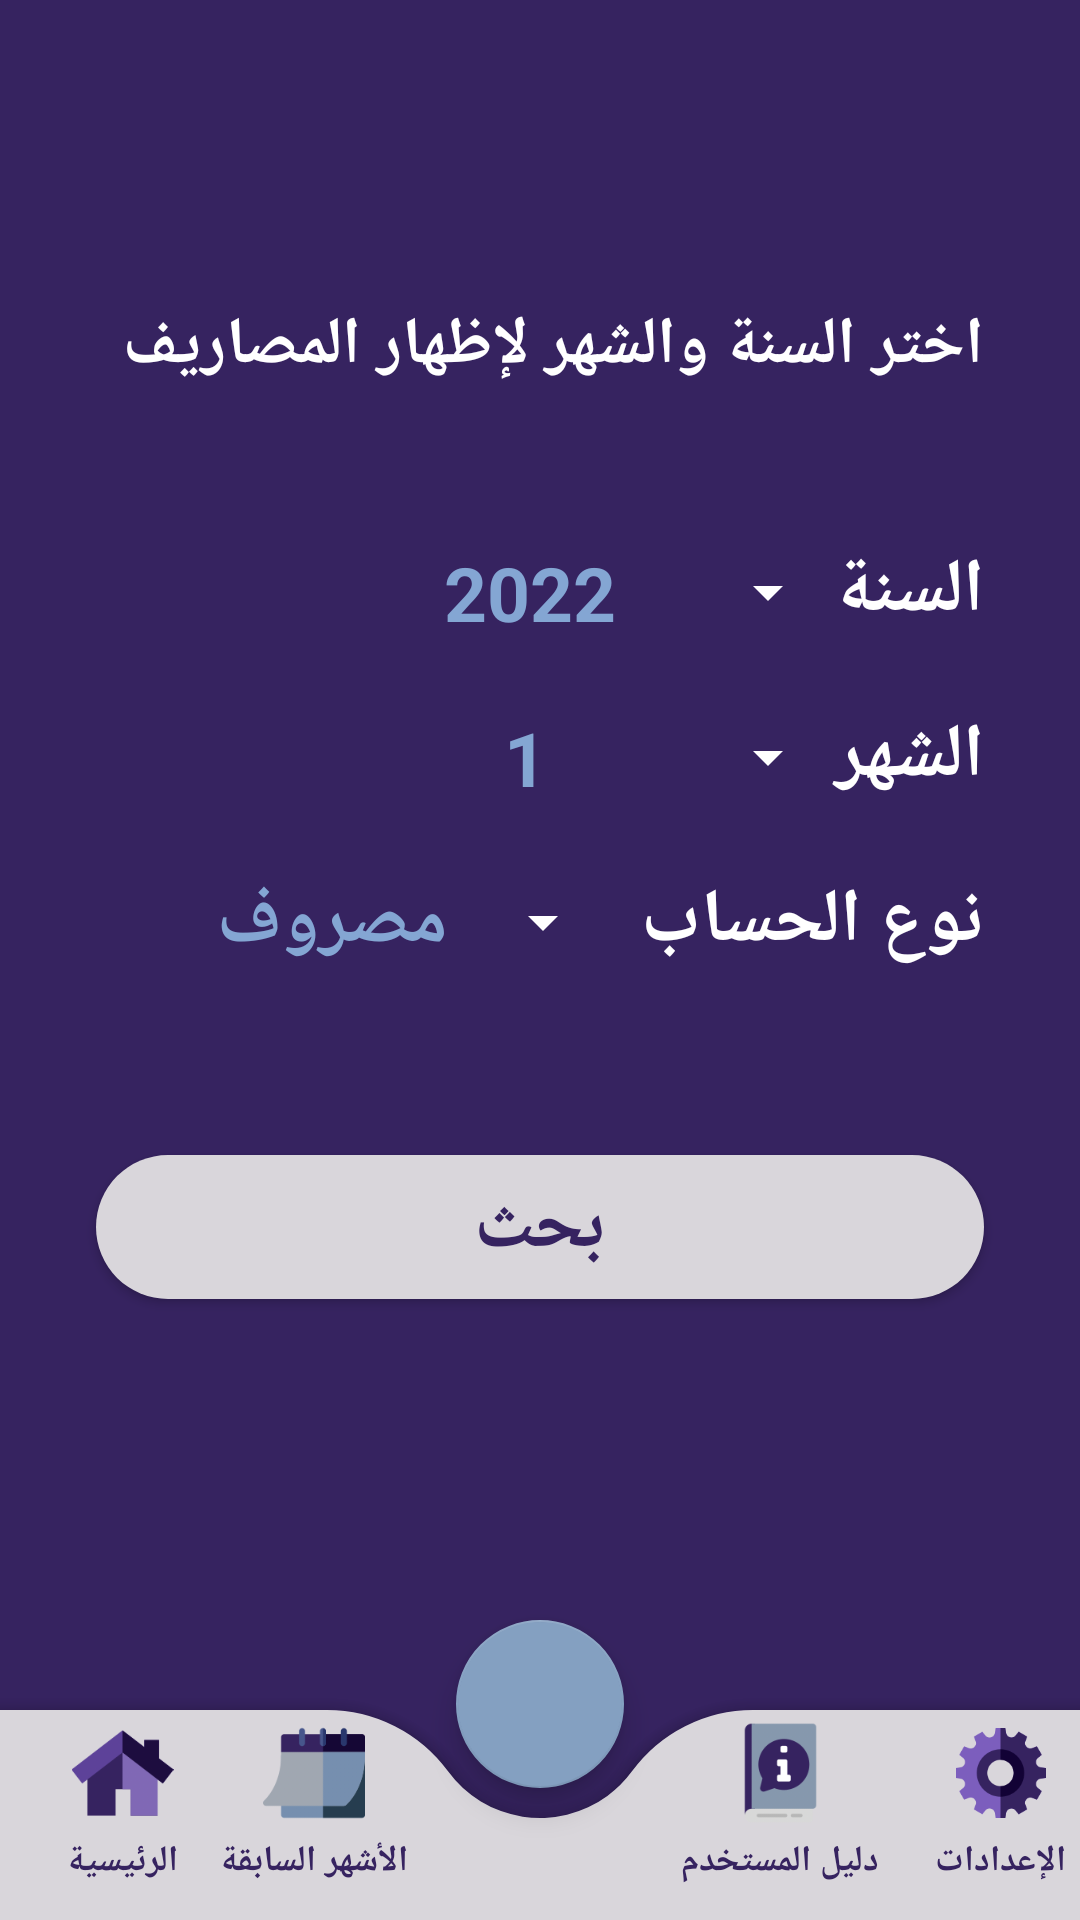

Icon bounding boxes for this 1080px x 1920px phone screenshot, format region(x1, y1, x2, y2):
calendar masroofe: region(263, 1728, 365, 1819)
